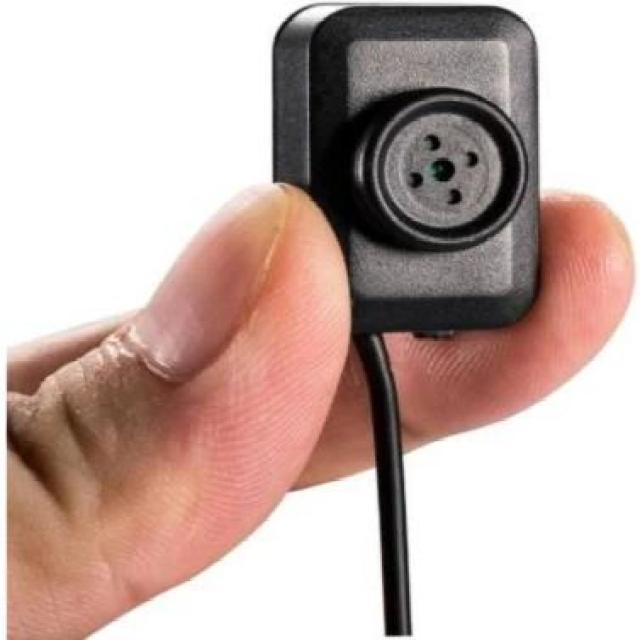hidden camera: (431, 156, 458, 185)
